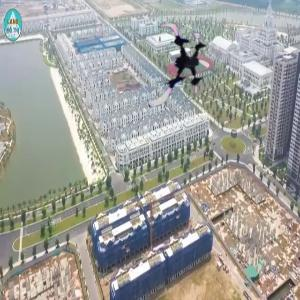drone: (137, 20, 223, 106)
